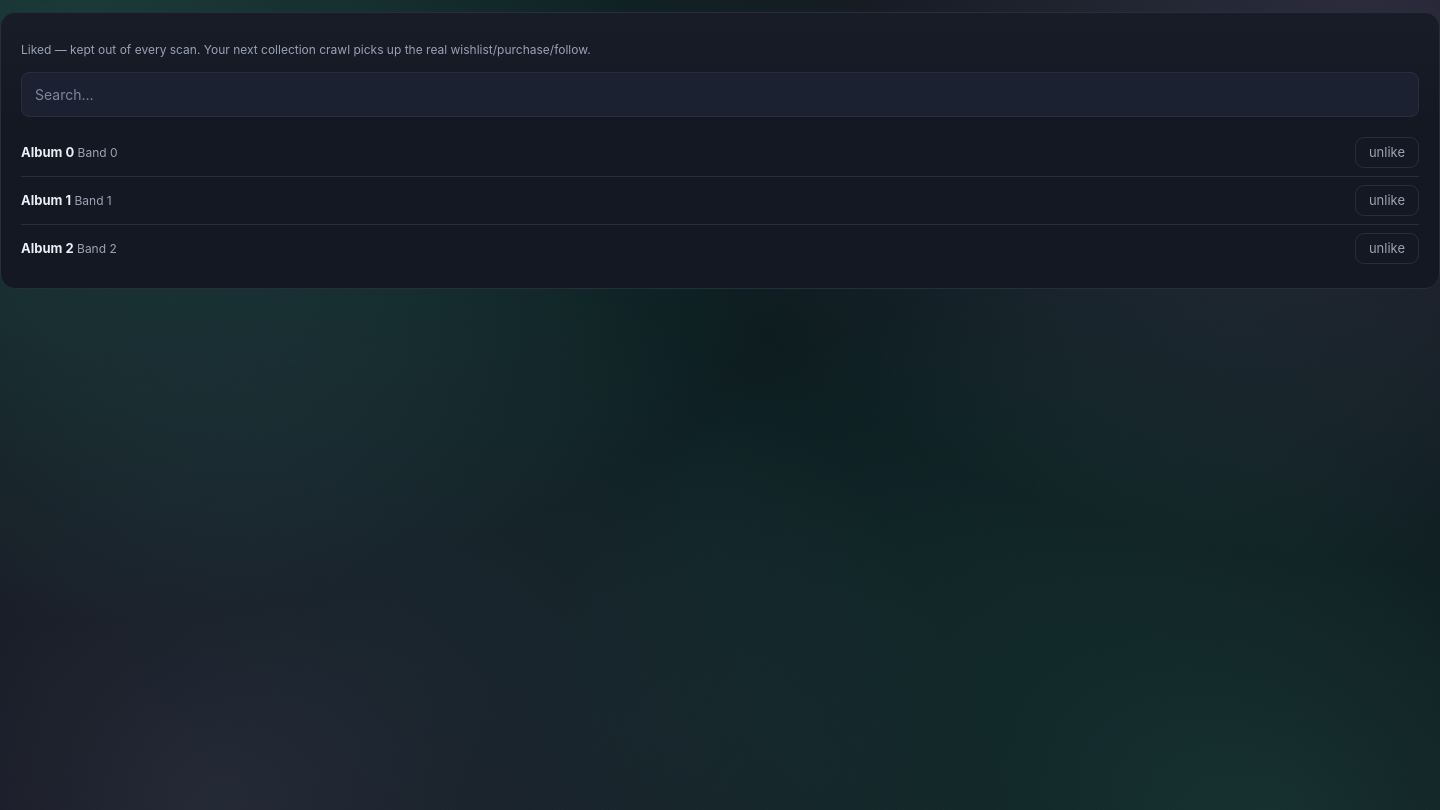
Test: LikedPanel search › shows a distinct message when nothing matches, not the "nothing liked yet" one
Type "nope" into the field named "Search liked items" at (720, 94), box [21, 72, 1419, 117]
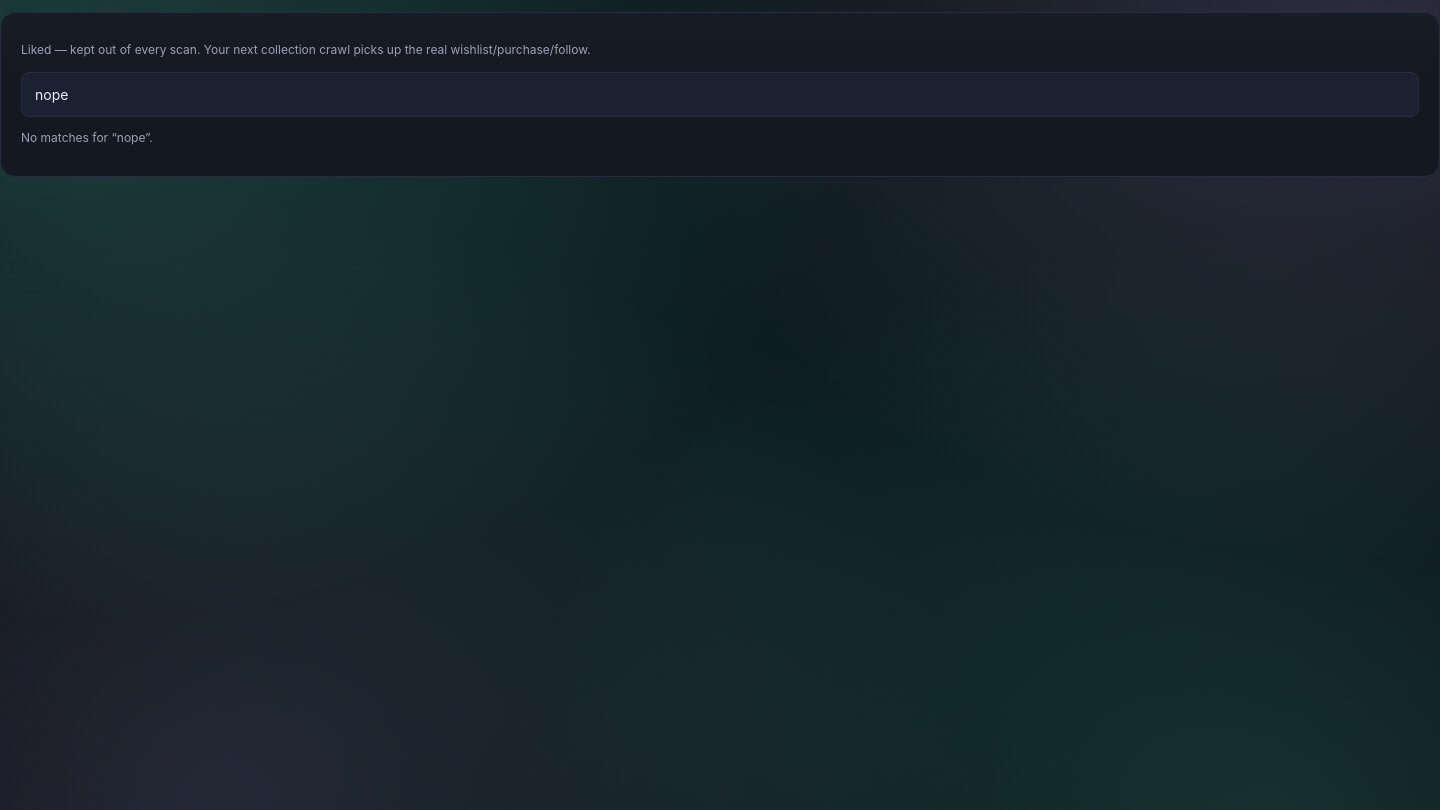
Expected: the text "No matches for “nope”." is shown, [21, 130, 153, 145]
Expected: the button "unlike" is gone
